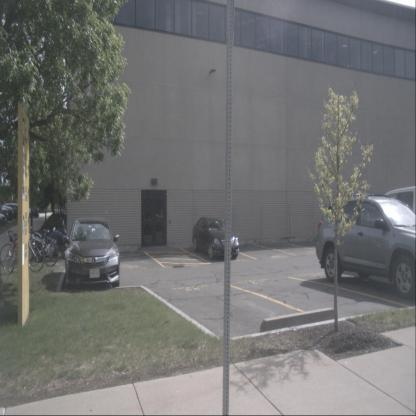vehicle-car: (316, 194, 416, 300), (64, 217, 119, 290), (192, 215, 239, 260), (0, 204, 23, 220), (0, 204, 14, 223), (0, 205, 9, 223), (0, 213, 7, 228)
vehicle-motorcycle: (29, 214, 72, 263)
